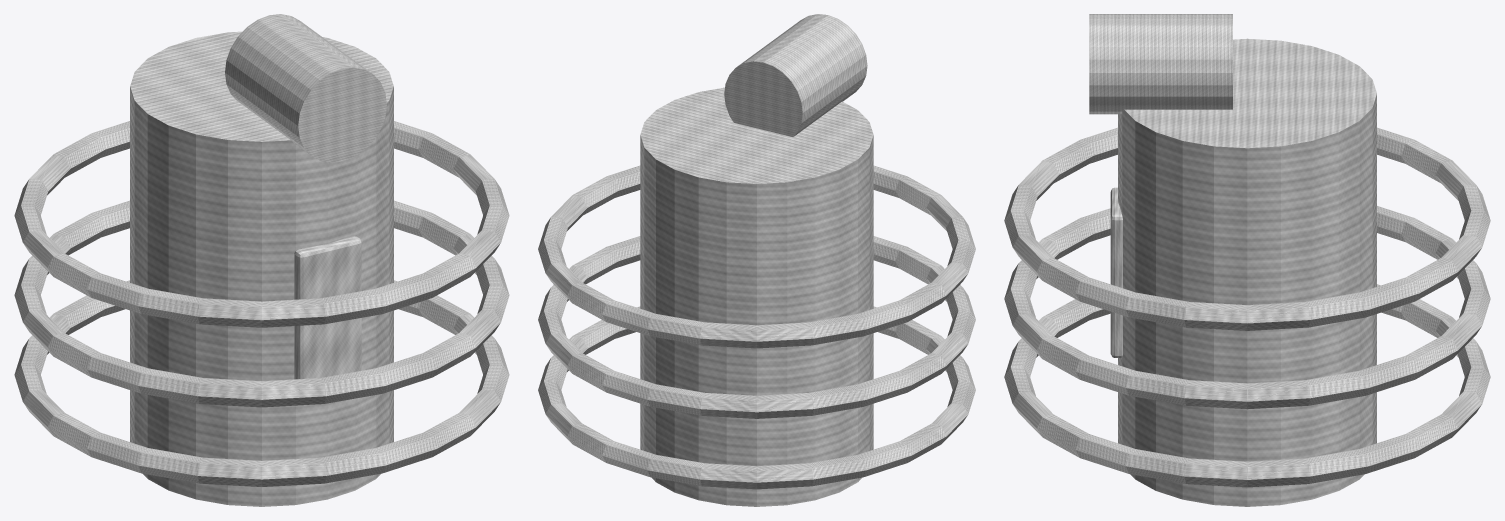
The model's file is consumable-medicinal-inhaler_variant_c.glb.
3 renders of one model, left to right at view 1: azimuth 30°, elevation 25°; view 2: azimuth 150°, elevation 25°; view 3: azimuth 270°, elevation 25°, orthographic. The views are drawn at different scales.
Visible parts, largest first — view 1: Consumable canister.003, Variant collar.002, Variant collar.001, Variant collar, Mouthpiece.002, Dose window.002; view 2: Consumable canister.003, Variant collar.002, Variant collar.001, Variant collar, Mouthpiece.002; view 3: Consumable canister.003, Variant collar.002, Variant collar.001, Variant collar, Mouthpiece.002, Dose window.002.
Part boxes in pixels (x1,y1,x2,y2): Consumable canister.003: (130,31,393,506); Variant collar.002: (14,121,509,327); Variant collar.001: (14,200,509,407); Variant collar: (14,280,509,486); Mouthpiece.002: (225,14,386,162); Dose window.002: (294,236,361,379); Consumable canister.003: (640,87,873,506); Variant collar.002: (538,165,975,348); Variant collar.001: (538,236,975,418); Variant collar: (538,306,975,489); Mouthpiece.002: (724,14,867,136); Consumable canister.003: (1118,38,1376,506); Variant collar.002: (1004,127,1490,330); Variant collar.001: (1004,206,1490,409); Variant collar: (1004,284,1490,487); Mouthpiece.002: (1089,14,1232,114); Dose window.002: (1110,187,1122,357).
Size of what is drawn, in the model's own units: 0.676 by 0.665 by 0.676.
Materials: 3 (3 with a texture image).
